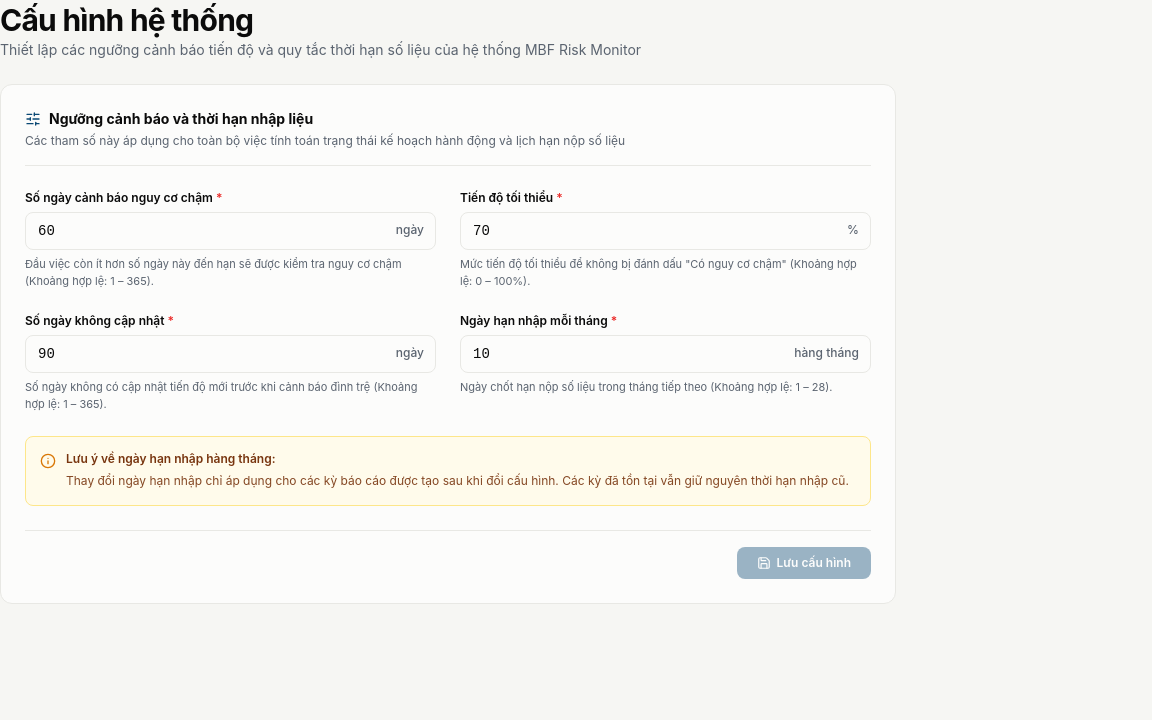
SettingsView component › submits PUT /api/settings with confirmation dialog when valid
Replace the text in the number field labelled "Số ngày cảnh báo nguy cơ chậm *" with "45". click: (230, 231)
box: [25,212,436,250]
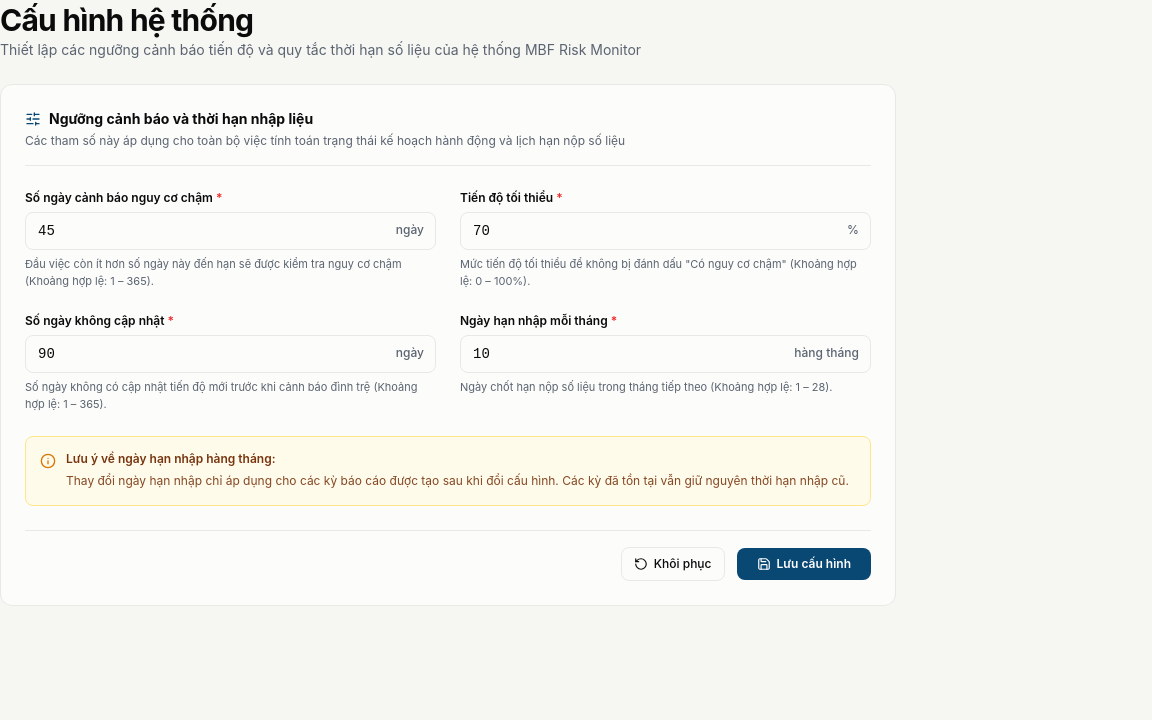
Replace the text in the number field labelled "Tiến độ tối thiểu *" with "75". click: (666, 231)
box: [460,212,871,250]
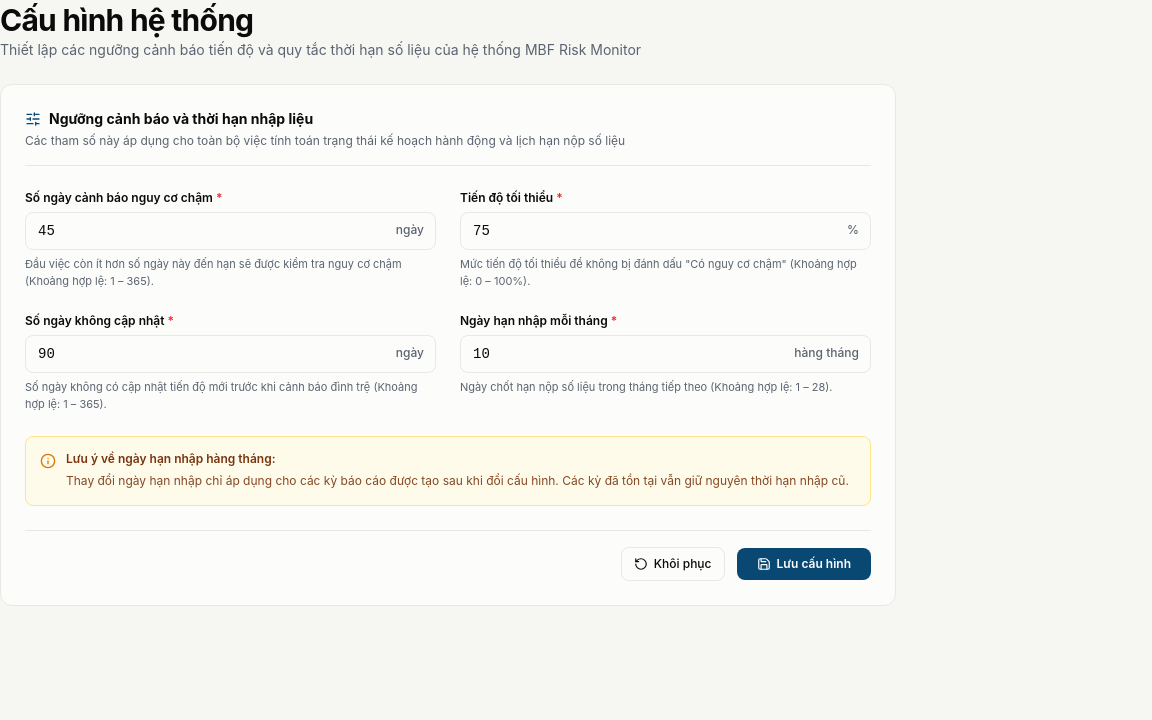
Replace the text in the number field labelled "Số ngày không cập nhật *" with "60". click: (230, 354)
box: [25,335,436,373]
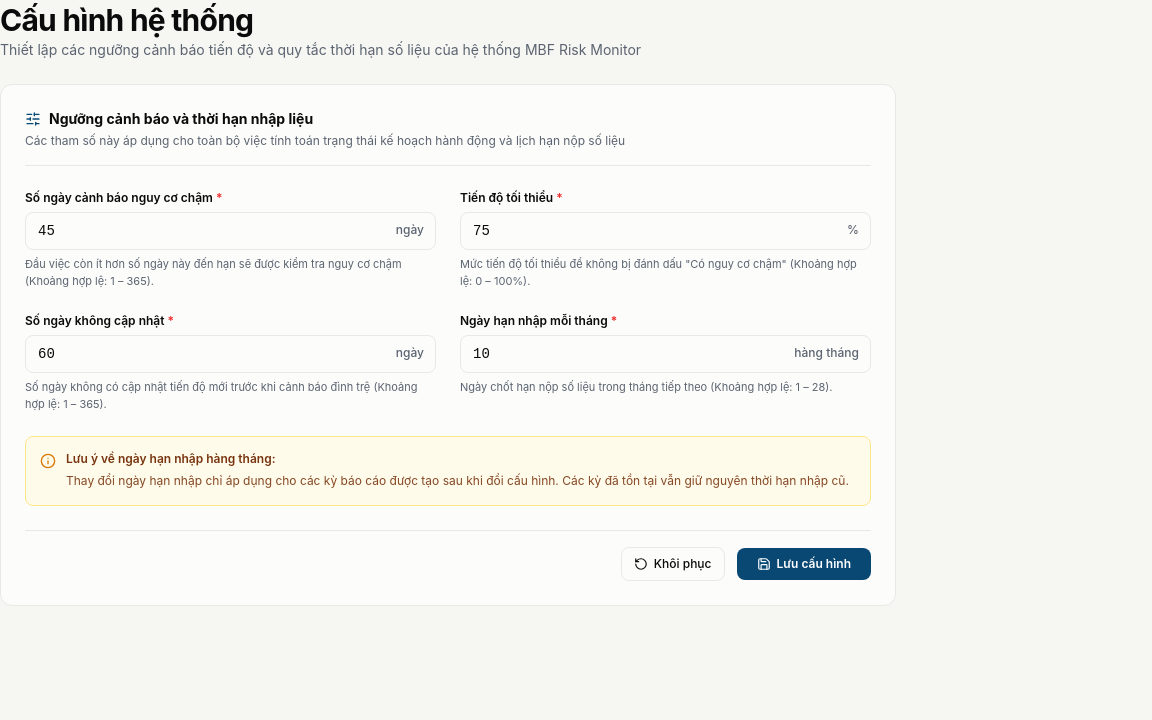
Replace the text in the number field labelled "Ngày hạn nhập mỗi tháng *" with "15". click: (666, 354)
box: [460,335,871,373]
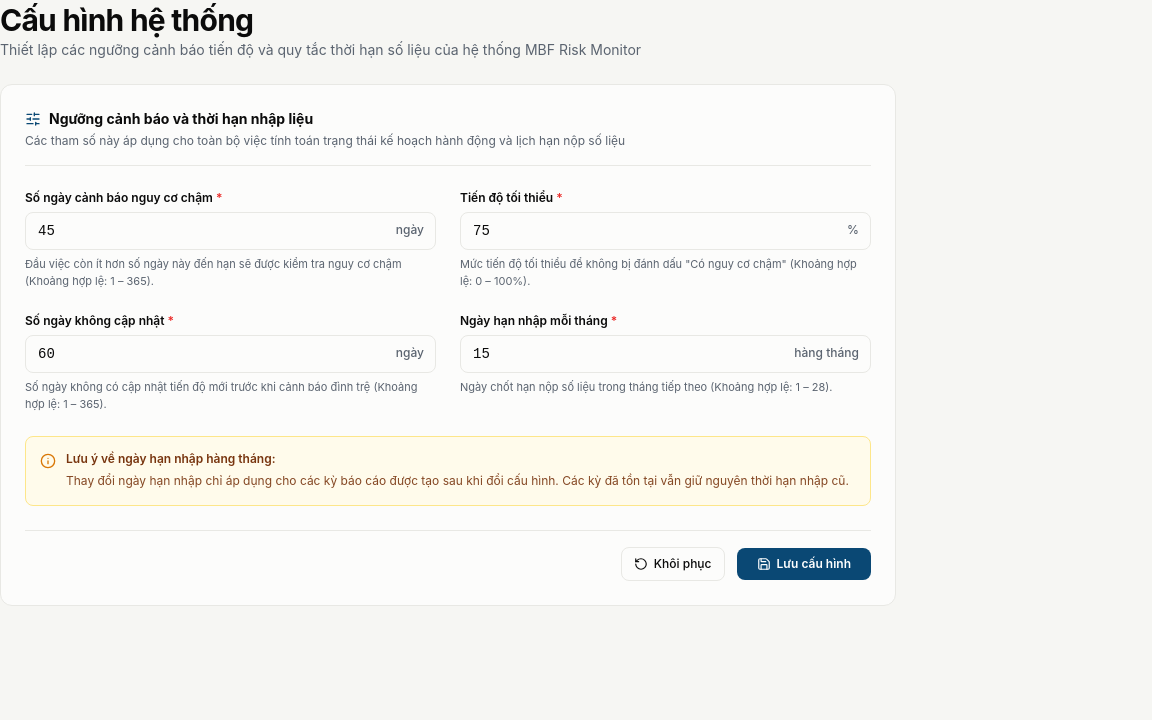
Click the button "Lưu cấu hình". click: (804, 564)
box: [736,548,871,580]
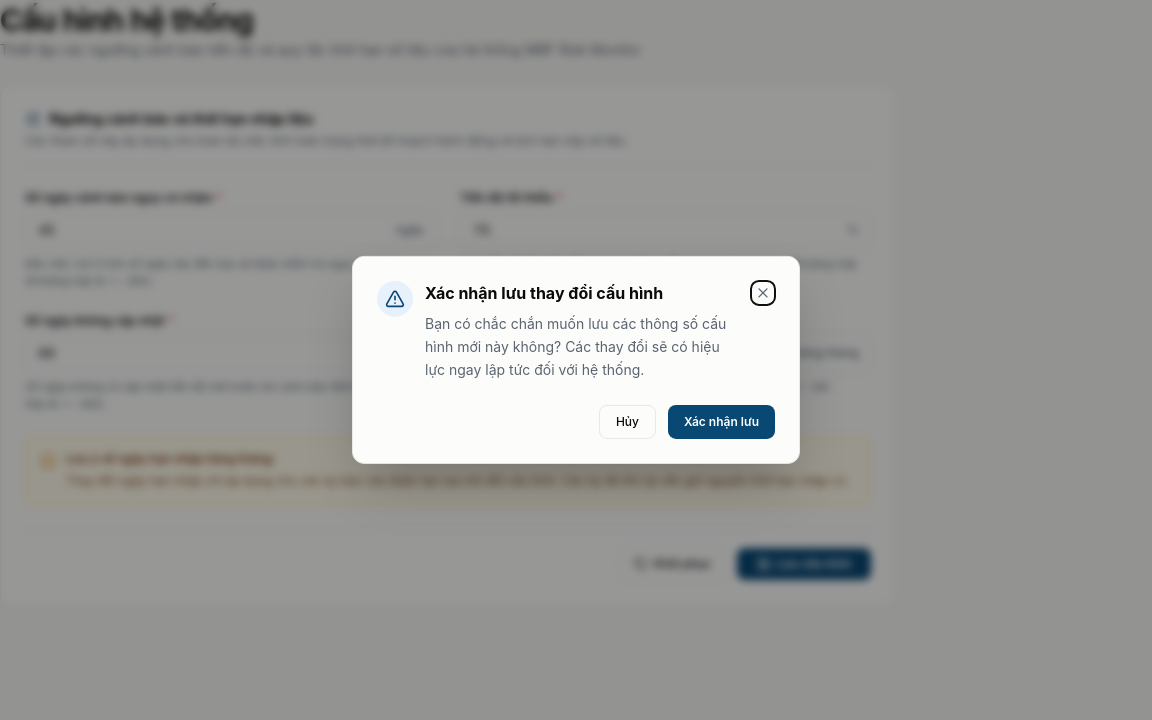
Expected: the dialog "Xác nhận lưu thay đổi cấu hình" is shown, [352,256,800,464]
Click the button "Xác nhận lưu". click: (722, 422)
box: [668,405,775,439]
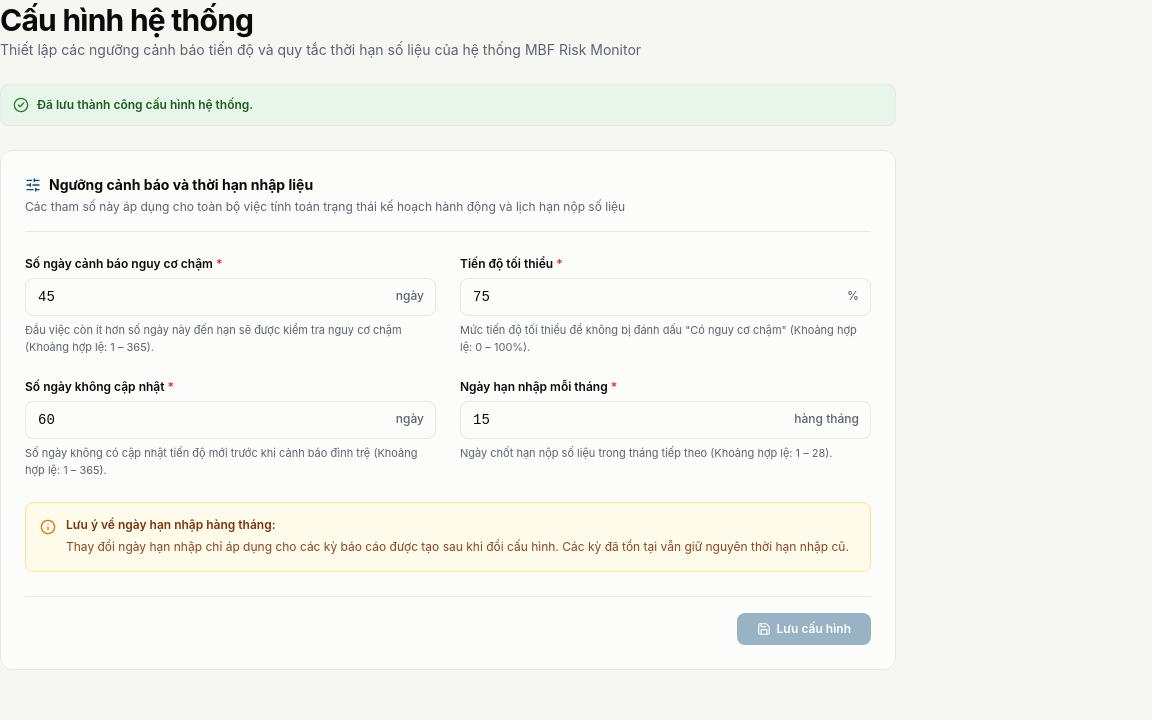
Expected: the text "Đã lưu thành công cấu hình hệ thống." is shown, [37,97,253,113]
